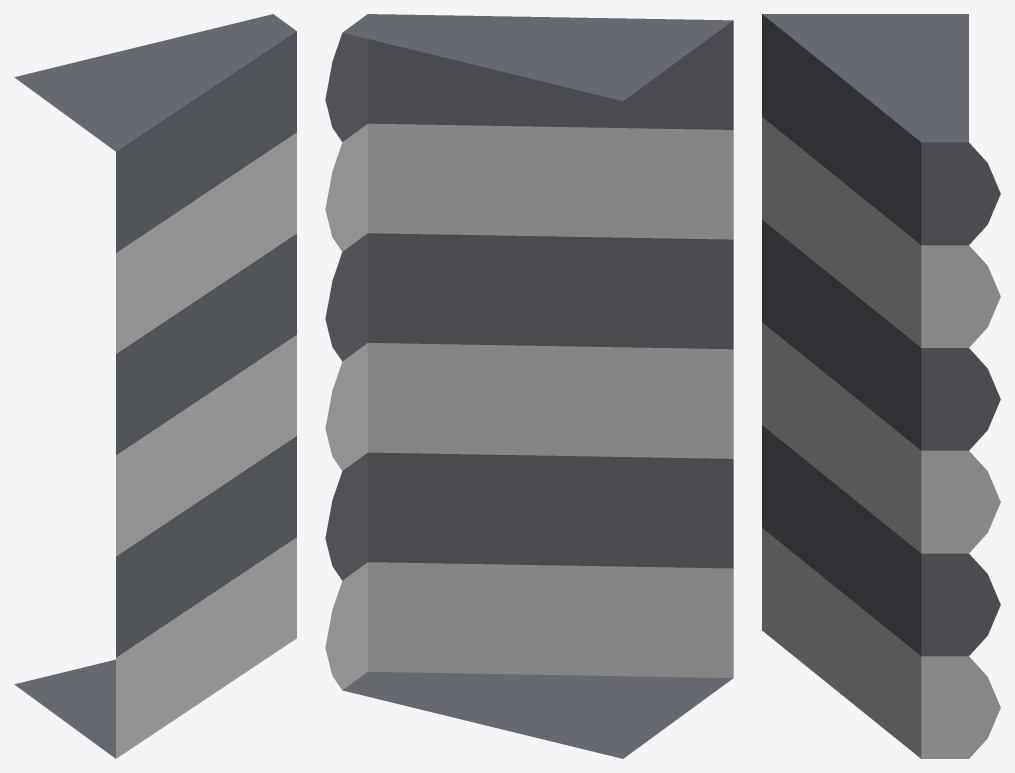
Rendered from keep-wd01_121.obj.
3 renders of one model, left to right at view 1: azimuth 30°, elevation 25°; view 2: azimuth 150°, elevation 25°; view 3: azimuth 270°, elevation 25°, orthographic. The views are drawn at different scales.
Bounding box in the file's own units: 0.42 × 0.94 × 0.33.
Materials: 1 (1 with a texture image).
